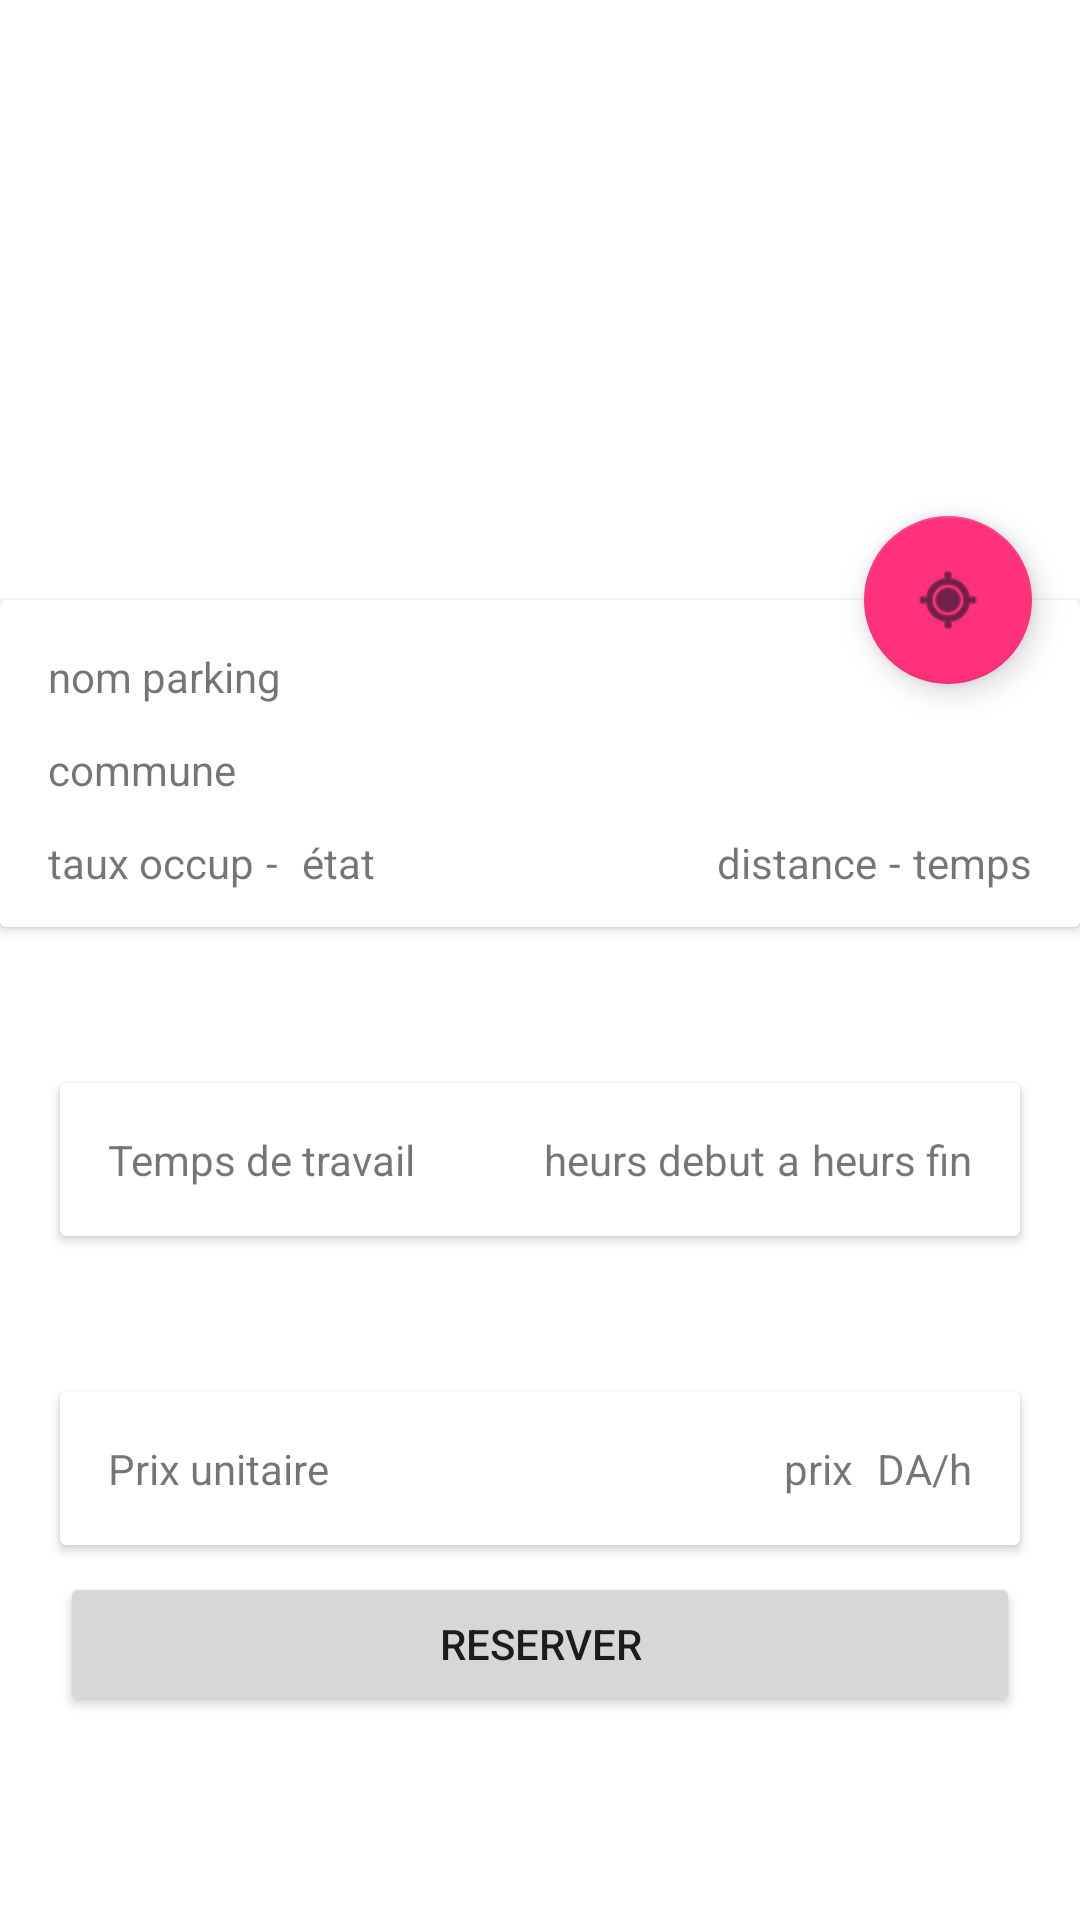

Point at icon controls on the screen. Image size 1080 x 1920, points as point (x, y).
mylocation: point (948, 600)
